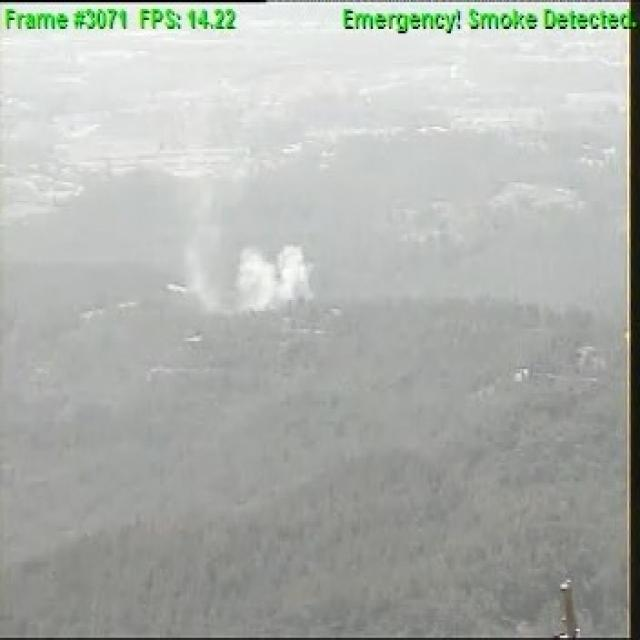smoke: (193, 239, 316, 310)
